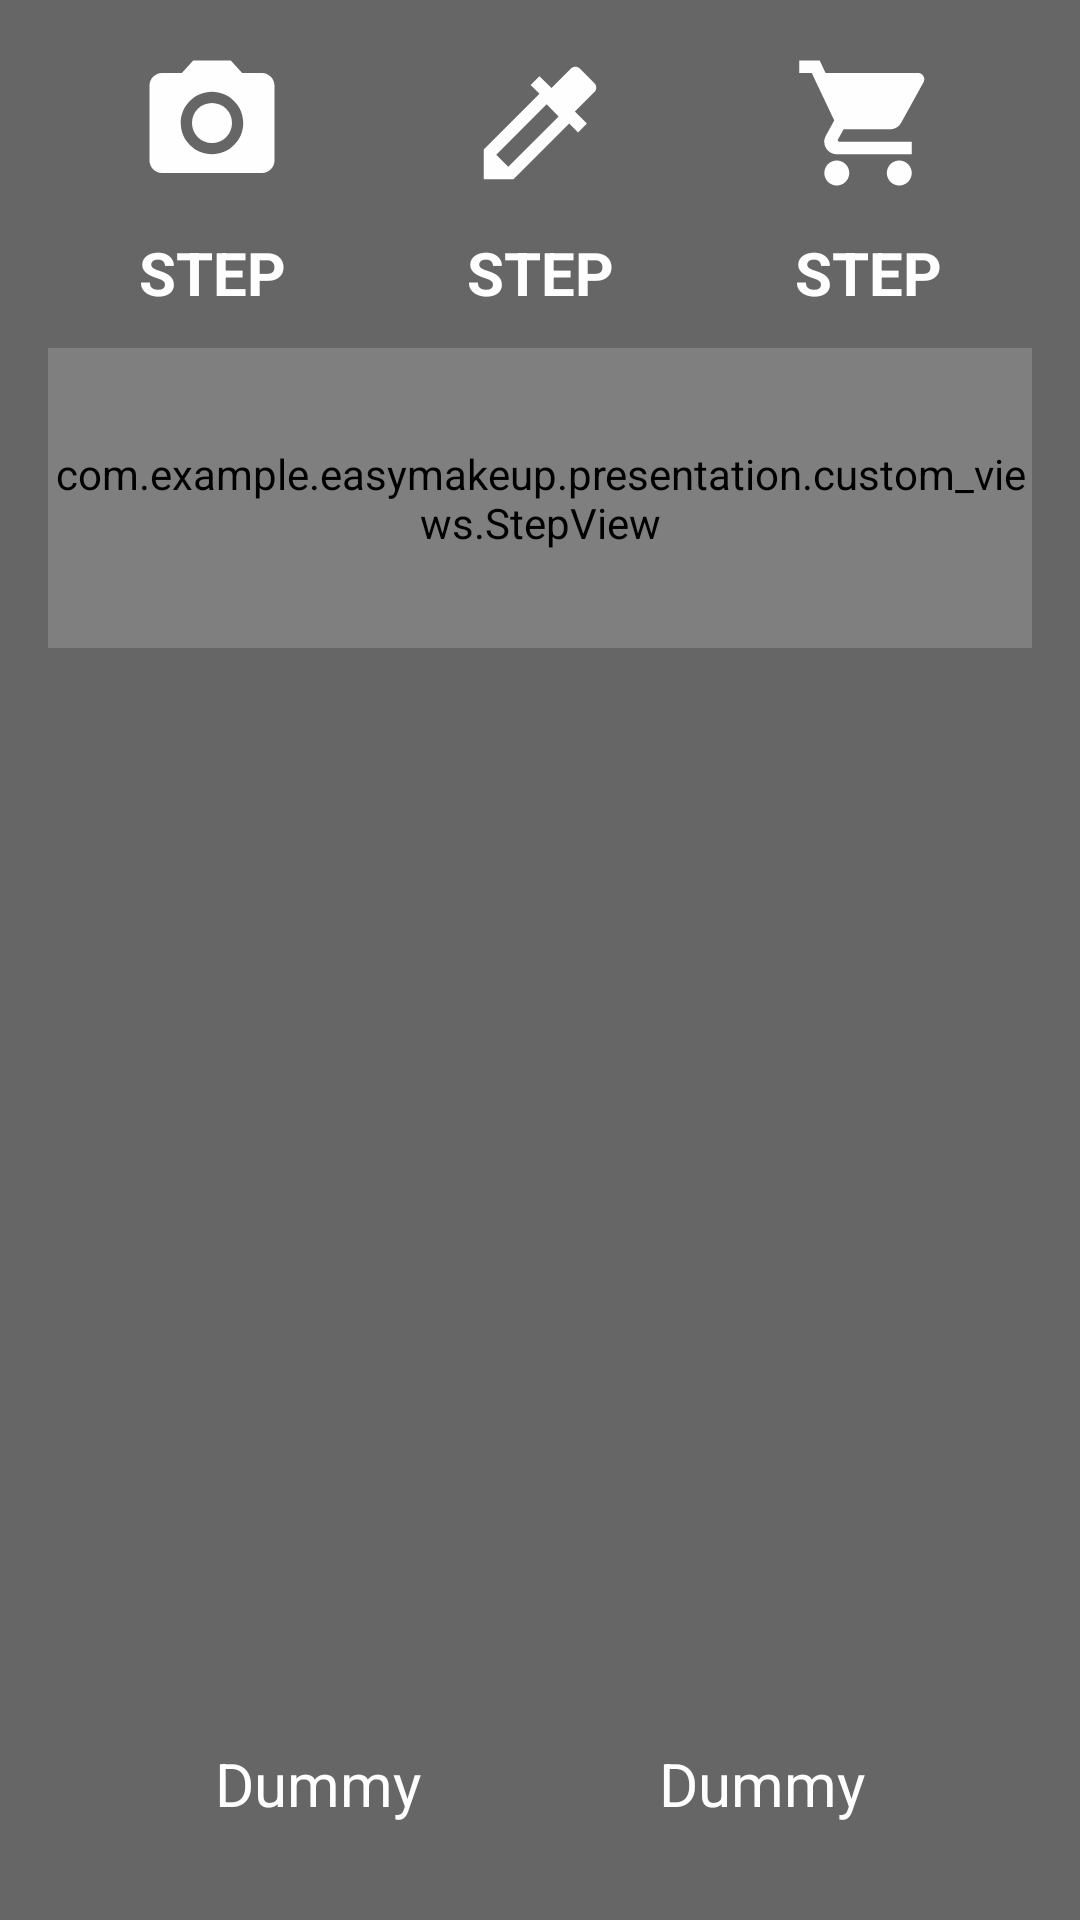

Named icons in this screenshot (1080 x 1920) and their bounding boxes, bbox=[x1, y1, x2, y2]:
camera: bbox=[149, 60, 275, 173]
cart: bbox=[799, 60, 925, 186]
picker: bbox=[483, 66, 597, 180]
